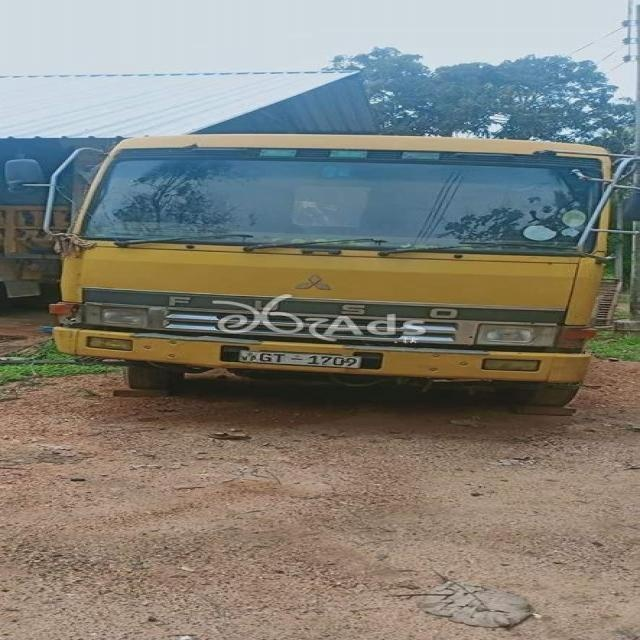Truck: (46, 141, 623, 398)
